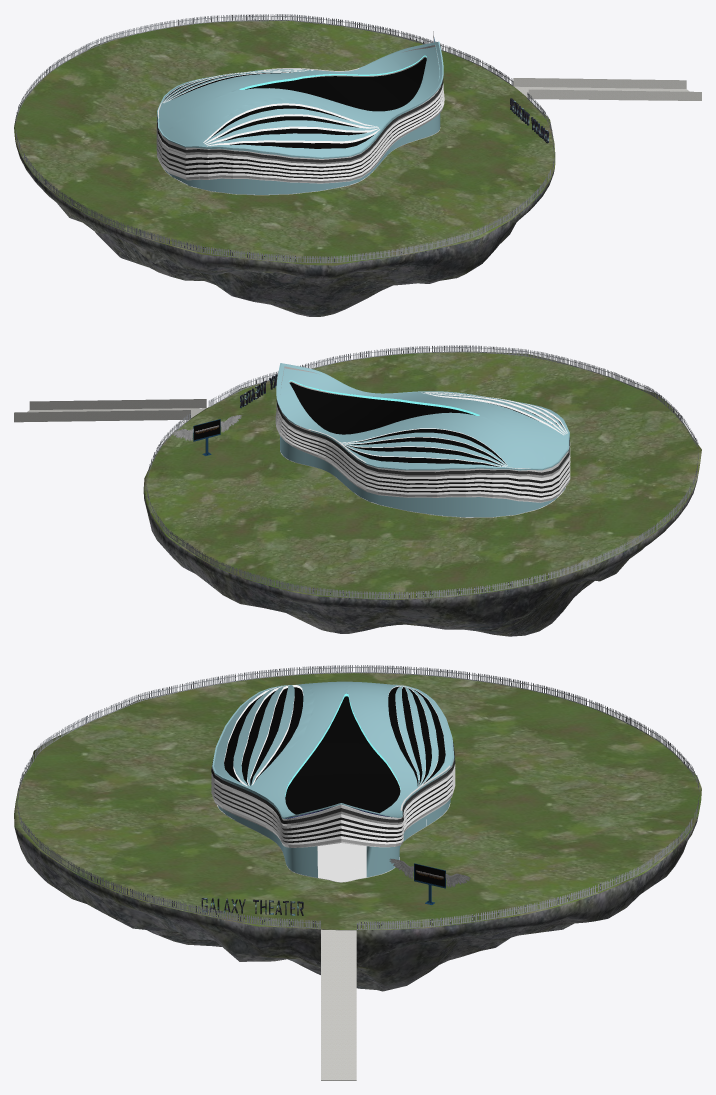
The model's file is Theater_04.glb.
3 views of the same model, one above another, from view 1: azimuth 30°, elevation 25°; view 2: azimuth 150°, elevation 25°; view 3: azimuth 270°, elevation 25° (orthographic). The views are drawn at different scales.
Parts seen in each view (by area): view 1: body001, Ellipse001, Renuka_Theater, Shape007, Shape004, Shape001, Plane123, Plane122, Rectangle002, THEATER INSIDE CAVE001; view 2: body001, Renuka_Theater, Ellipse001, Shape007, Shape004, Plane122, Plane123, Rectangle002, T1_H1.001; view 3: body001, Ellipse001, Renuka_Theater, Shape007, Shape004, Rectangle002, Shape001, Shape002, THEATER INSIDE CAVE001, T1_H1.001.
Boxes of the visible parts, x1,y1,x2,y2 form: body001: [14, 20, 555, 316]; Ellipse001: [157, 41, 443, 158]; Renuka_Theater: [156, 45, 444, 194]; Shape007: [15, 14, 554, 263]; Shape004: [245, 57, 426, 111]; Shape001: [211, 105, 373, 148]; Plane123: [528, 89, 701, 100]; Plane122: [513, 78, 686, 88]; Rectangle002: [514, 86, 701, 100]; THEATER INSIDE CAVE001: [510, 98, 548, 143]; body001: [143, 351, 701, 636]; Renuka_Theater: [275, 366, 570, 517]; Ellipse001: [276, 363, 569, 470]; Shape007: [146, 345, 698, 599]; Shape004: [289, 382, 474, 434]; Plane122: [14, 410, 190, 421]; Plane123: [29, 399, 206, 409]; Rectangle002: [14, 408, 206, 422]; T1_H1.001: [193, 419, 220, 455]; body001: [14, 673, 701, 991]; Ellipse001: [212, 681, 454, 818]; Renuka_Theater: [211, 684, 455, 877]; Shape007: [17, 665, 699, 929]; Shape004: [285, 696, 400, 814]; Rectangle002: [321, 929, 356, 1080]; Shape001: [224, 687, 303, 785]; Shape002: [217, 768, 450, 882]; THEATER INSIDE CAVE001: [201, 898, 303, 915]; T1_H1.001: [414, 863, 445, 904].
Bounding box in the file's own units: 144 × 44.92 × 118.
Materials: 32 (15 with a texture image).
